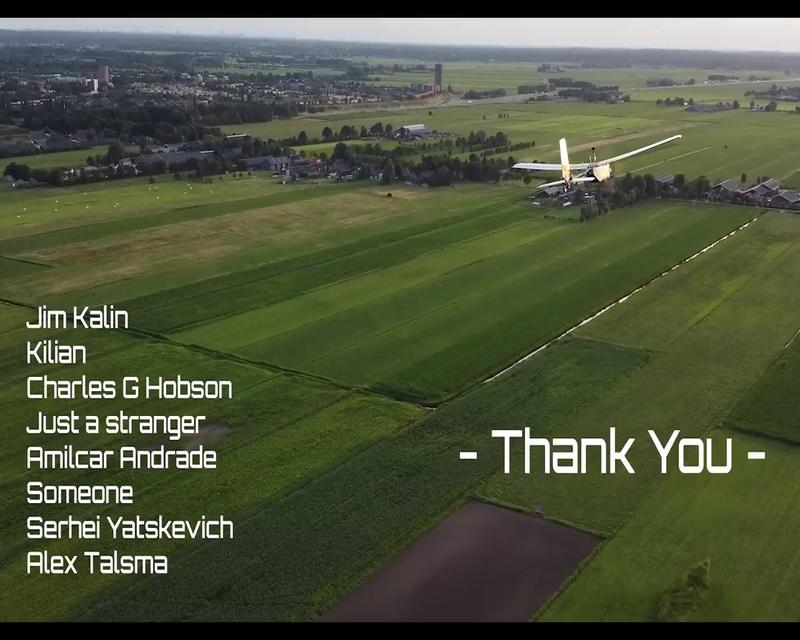UAV: (511, 134, 683, 196)
